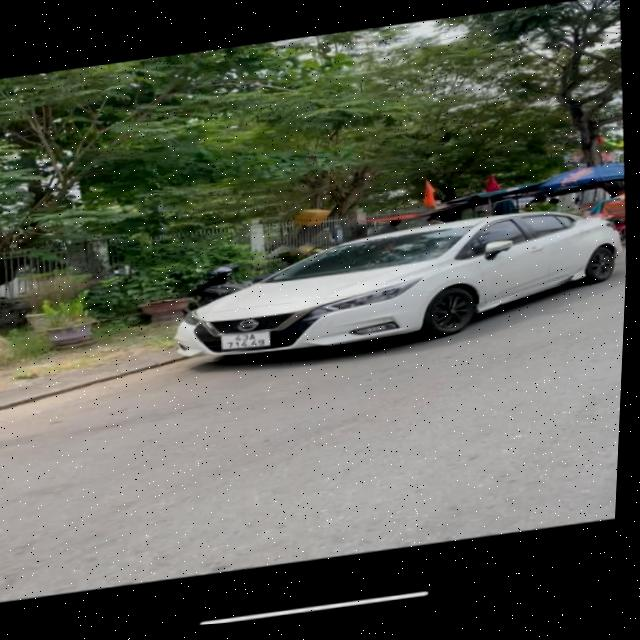car: (178, 191, 617, 380)
plate: (216, 325, 276, 358)
